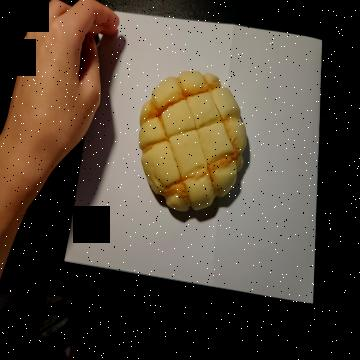melon_bread: (138, 69, 247, 213)
